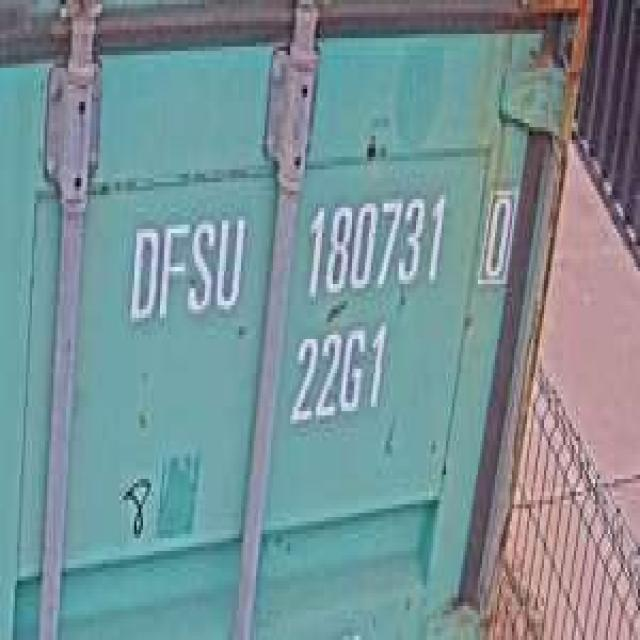dv: (478, 174, 516, 288)
owner: (121, 204, 248, 330)
serial: (301, 182, 448, 301)
size: (286, 314, 388, 432)
